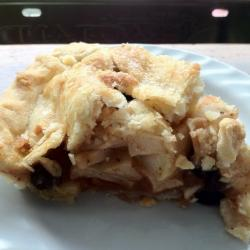apple_pie: (1, 40, 248, 217)
